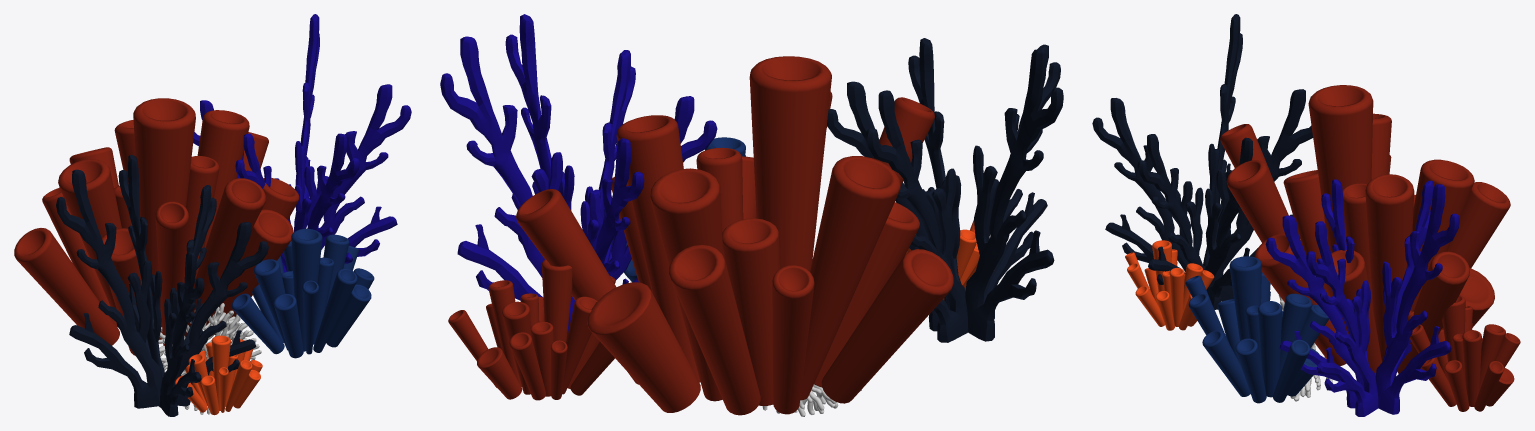
Rendered from coral_3.obj.
3 views of the same model, side by side, from view 1: azimuth 30°, elevation 25°; view 2: azimuth 150°, elevation 25°; view 3: azimuth 270°, elevation 25° (orthographic). The views are drawn at different scales.
Visible parts, largest first — view 1: pCylinder35_ParlakVersiyon_0.001; view 2: pCylinder35_ParlakVersiyon_0.001; view 3: pCylinder35_ParlakVersiyon_0.001.
Boxes of the visible parts, x1=… form: pCylinder35_ParlakVersiyon_0.001: x1=14, y1=14, x2=411, y2=416; pCylinder35_ParlakVersiyon_0.001: x1=440, y1=14, x2=1063, y2=416; pCylinder35_ParlakVersiyon_0.001: x1=1092, y1=14, x2=1520, y2=416.
Bounding box in the file's own units: 2.49 × 1.8 × 2.31.
